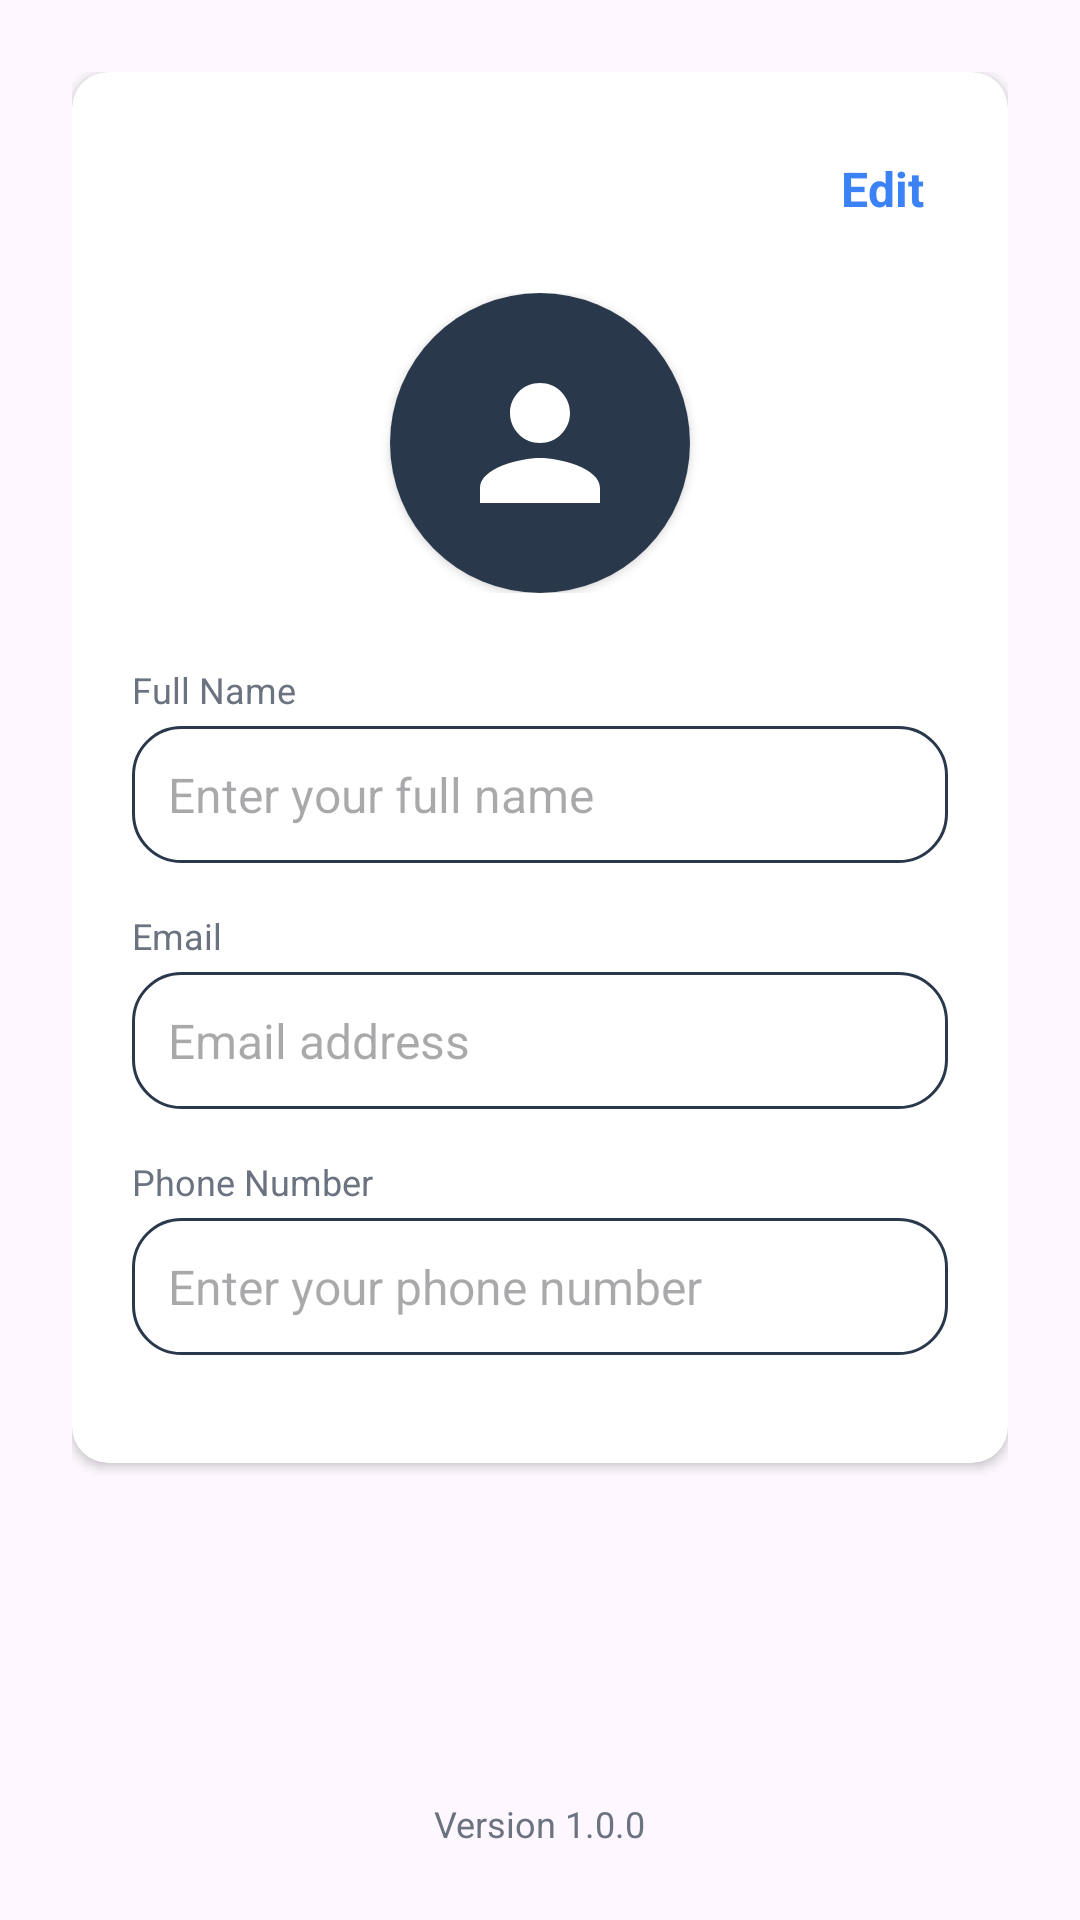

Named icons in this screenshot (1080px x 1920px) and their centers, (x=x, y=y):
profile: (x=540, y=443)
